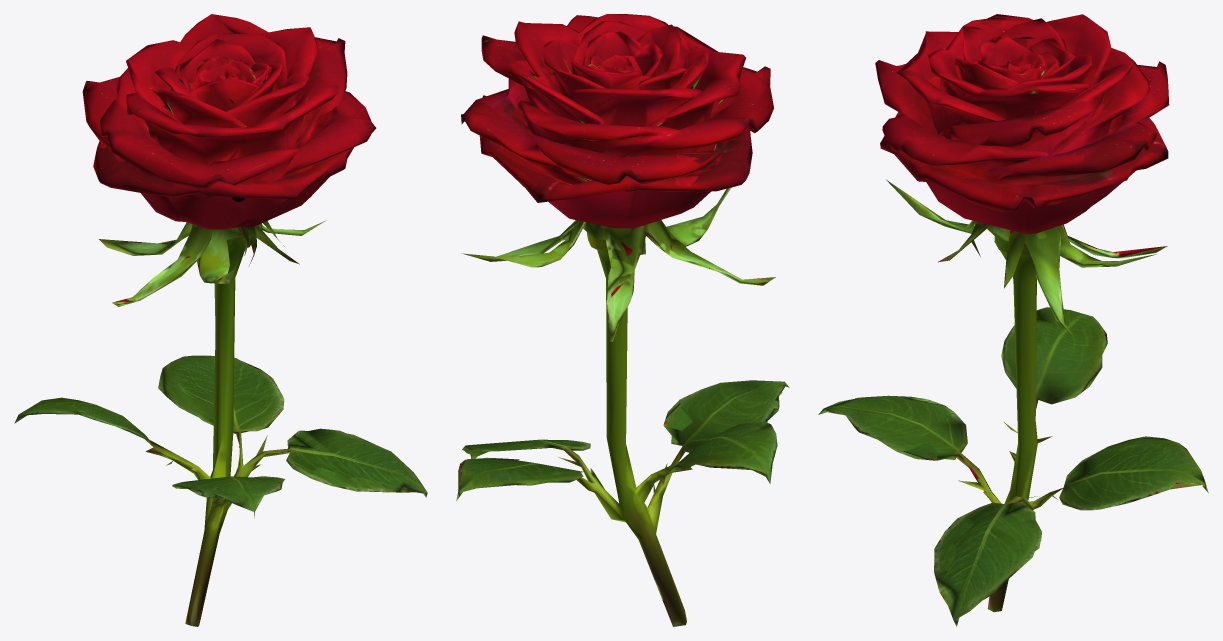
Rendered from redrose.glb.
The picture shows the model from 3 angles, left to right: view 1: azimuth 30°, elevation 25°; view 2: azimuth 150°, elevation 25°; view 3: azimuth 270°, elevation 25°; orthographic projection. The views are drawn at different scales.
Parts seen in each view (by area): view 1: Mesh1.0; view 2: Mesh1.0; view 3: Mesh1.0.
Boxes of the visible parts, x1,y1,x2,y2 form: Mesh1.0: (14, 14, 427, 626); Mesh1.0: (456, 14, 789, 626); Mesh1.0: (818, 14, 1208, 626).
Size of the model in its own units: 1.32 by 2 by 1.19.
1 material, 1 textured.
